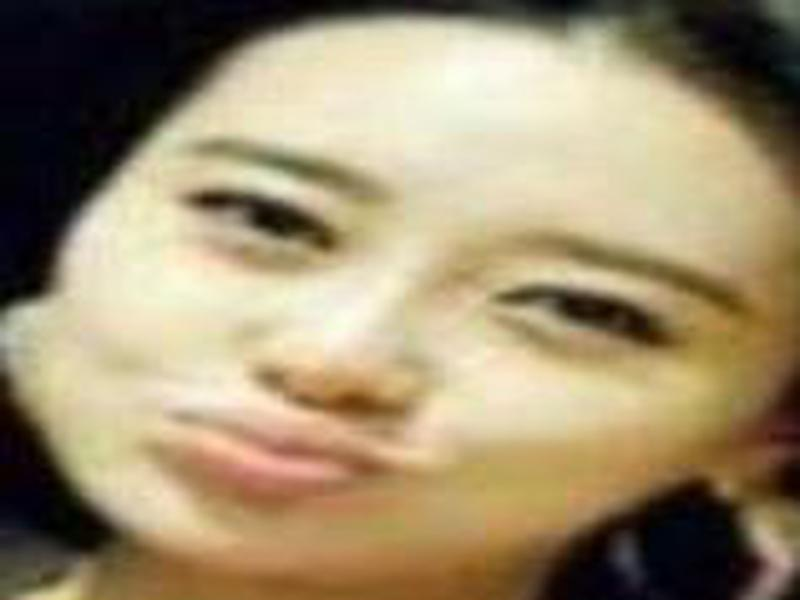without_mask: (19, 21, 787, 584)
